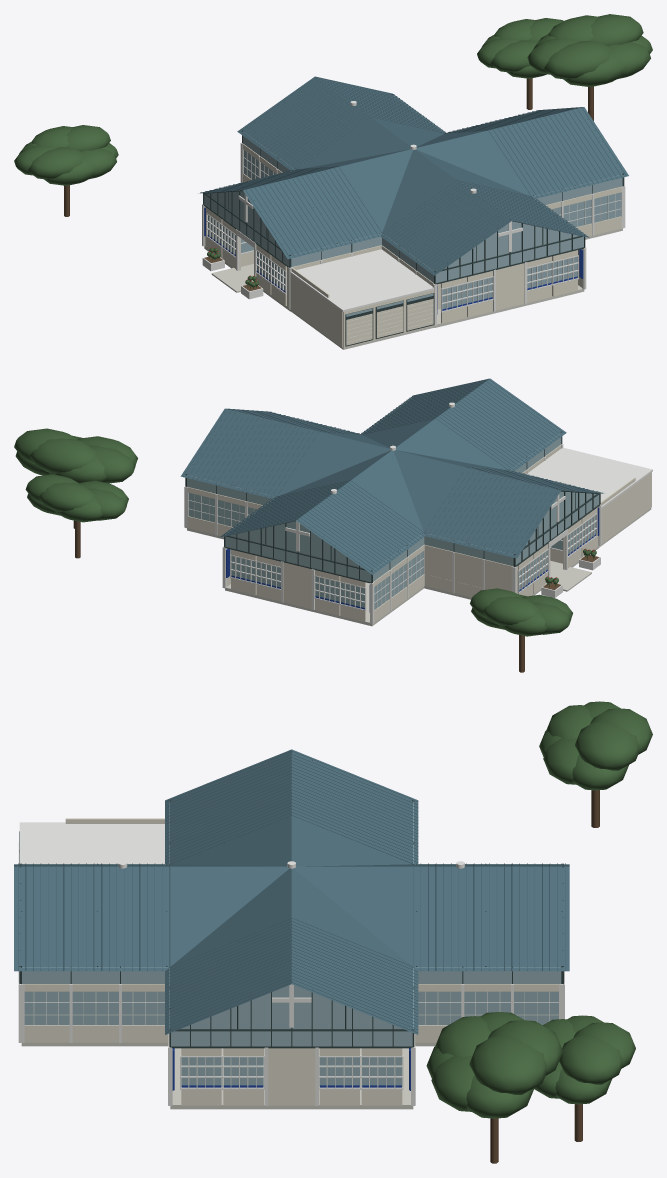
Rendered from berea-church-v7.glb.
3 views of the same model, one above another, from view 1: azimuth 30°, elevation 25°; view 2: azimuth 150°, elevation 25°; view 3: azimuth 270°, elevation 25° (orthographic). The views are drawn at different scales.
Visible parts, largest first — view 1: Ceiling_roof, Surroundings_green, Windows_window, ChurchExterior_wall, CaretakerKitchen_trim, CaretakerKitchen_wall, Windows_trim, Windows_beam, ChurchExterior_trim, MainAisle_floor, CaretakerKitchen_beam, Surroundings_wood (+3 smaller); view 2: Ceiling_roof, Windows_window, Surroundings_green, ChurchExterior_wall, Windows_trim, CaretakerKitchen_trim, SmallHall_wall, Windows_beam, CaretakerKitchen_wall, ChurchExterior_trim, MainAisle_floor, ChurchEntrance_floor (+3 smaller); view 3: Ceiling_roof, Windows_window, Surroundings_green, ChurchExterior_wall, CaretakerKitchen_trim, Windows_trim, MainAisle_floor, Windows_beam, ChurchExterior_trim, Surroundings_wood.
Part boxes in pixels (x1,y1,x2,y2): Ceiling_roof: (198,76,628,275); Surroundings_green: (14,14,652,185); Windows_window: (204,96,622,309); ChurchExterior_wall: (207,143,623,323); CaretakerKitchen_trim: (290,249,434,342); CaretakerKitchen_wall: (290,274,434,347); Windows_trim: (204,143,624,312); Windows_beam: (203,78,624,284); ChurchExterior_trim: (202,142,625,325); MainAisle_floor: (204,228,622,327); CaretakerKitchen_beam: (345,293,434,346); Surroundings_wood: (64,78,593,216); Ceiling_roof: (180,378,603,574); Windows_window: (187,398,599,609); Surroundings_green: (14,428,572,636); ChurchExterior_wall: (186,444,596,622); Windows_trim: (185,444,599,623); CaretakerKitchen_trim: (526,447,652,508); SmallHall_wall: (425,477,635,593); Windows_beam: (185,380,600,583); CaretakerKitchen_wall: (601,472,651,543); ChurchExterior_trim: (184,443,601,624); MainAisle_floor: (187,528,599,626); ChurchEntrance_floor: (552,567,591,591); Ceiling_roof: (14,749,569,1034); Windows_window: (22,801,561,1086); Surroundings_green: (426,701,652,1118); ChurchExterior_wall: (21,984,561,1105); CaretakerKitchen_trim: (18,822,164,863); Windows_trim: (20,971,564,1105); MainAisle_floor: (21,1042,436,1109); Windows_beam: (19,751,563,1048); ChurchExterior_trim: (18,971,564,1105); Surroundings_wood: (490,790,599,1163).
Bounding box in the file's own units: 57.53 × 9.04 × 37.84.
